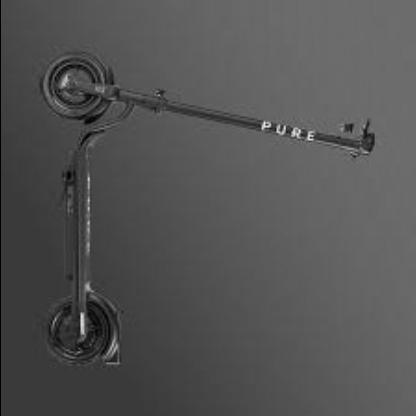bike: (39, 50, 387, 371)
